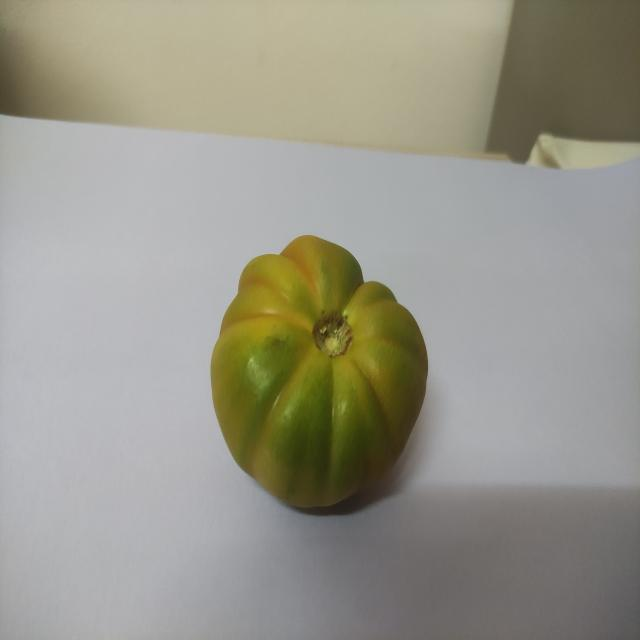yesil: (204, 232, 434, 533)
